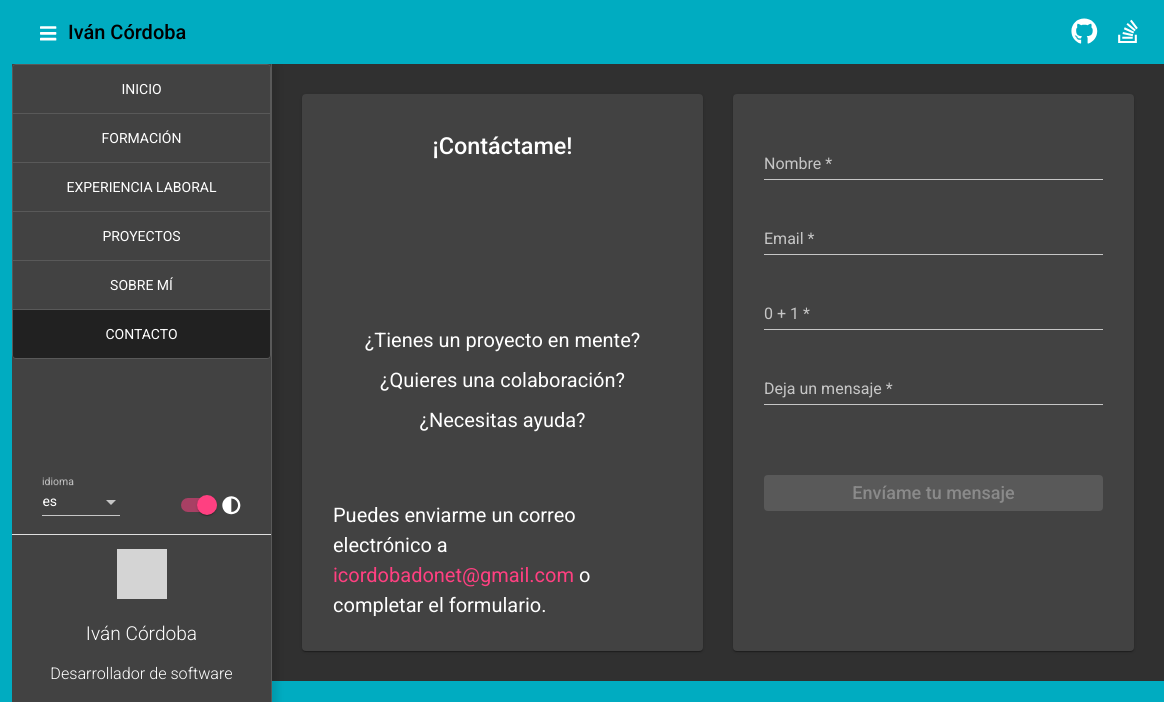
Test case: Contact Page › should show invalid sum error on sum field
Type "11" into the number field with test id "contactFieldSumInput".
click(934, 314); type("11")  # box [764, 305, 1103, 323]
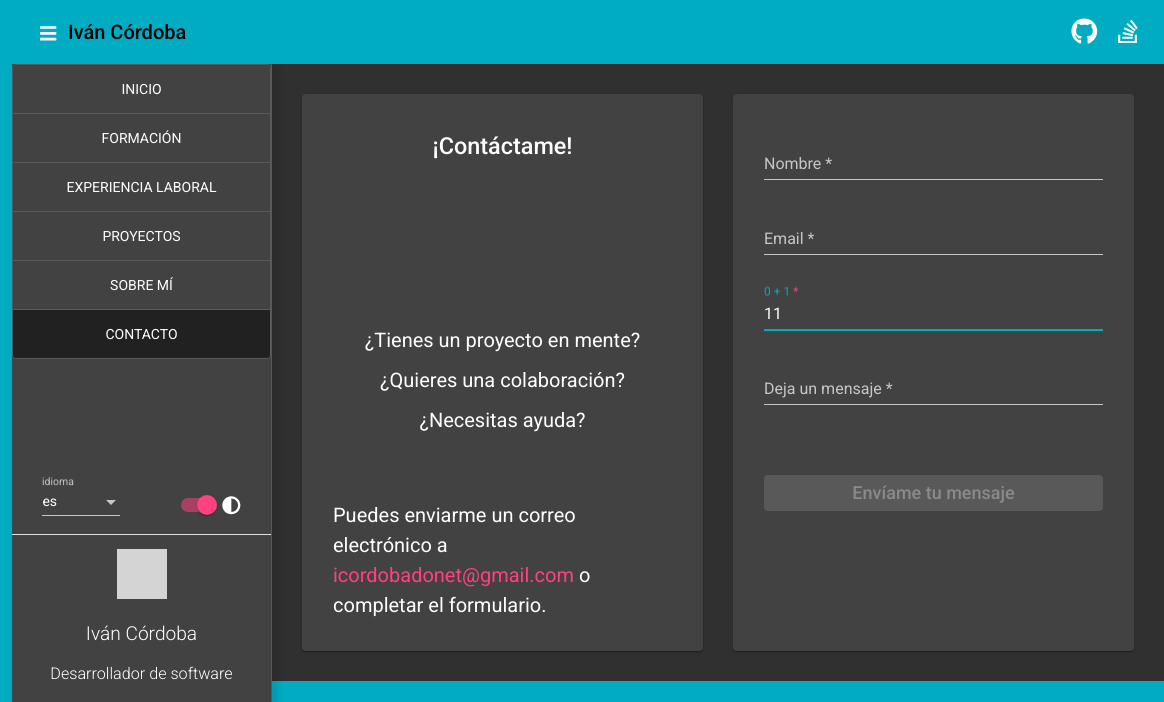
Click the element with test id "contactCard" that starts with "¡Contáctame!".
click(503, 373)  # box [302, 94, 703, 651]
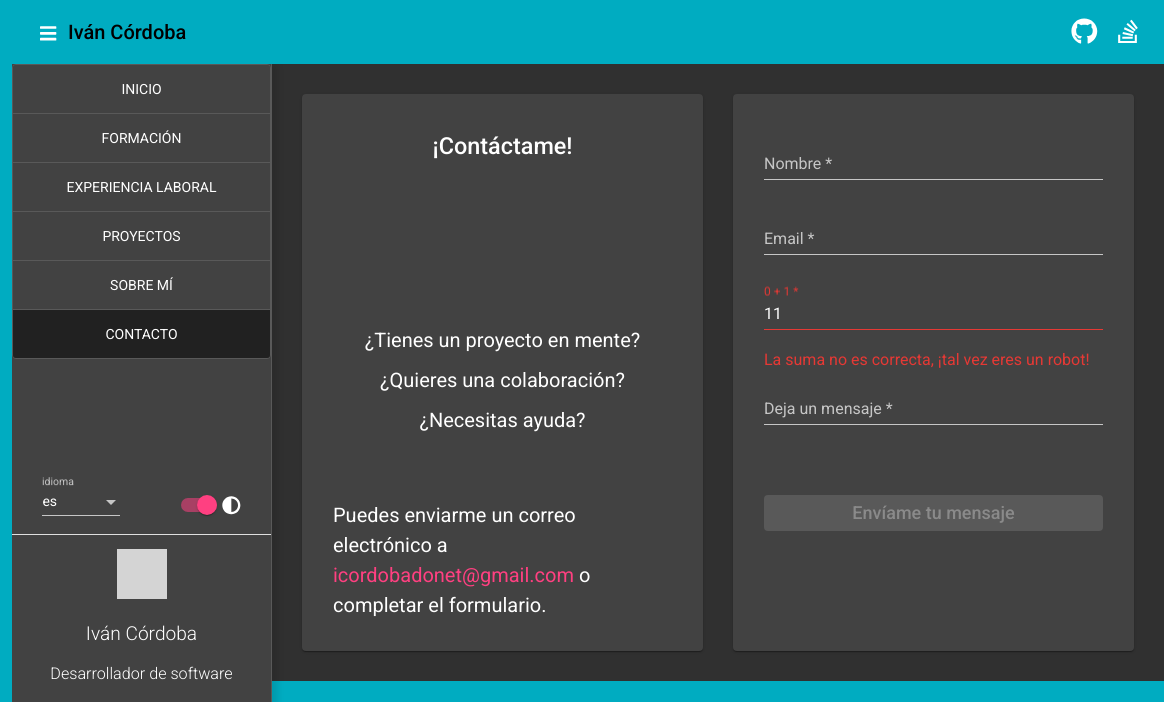
Check: the text "La suma no es correcta, ¡tal vez eres un robot!" is shown, box [764, 350, 1103, 370]
